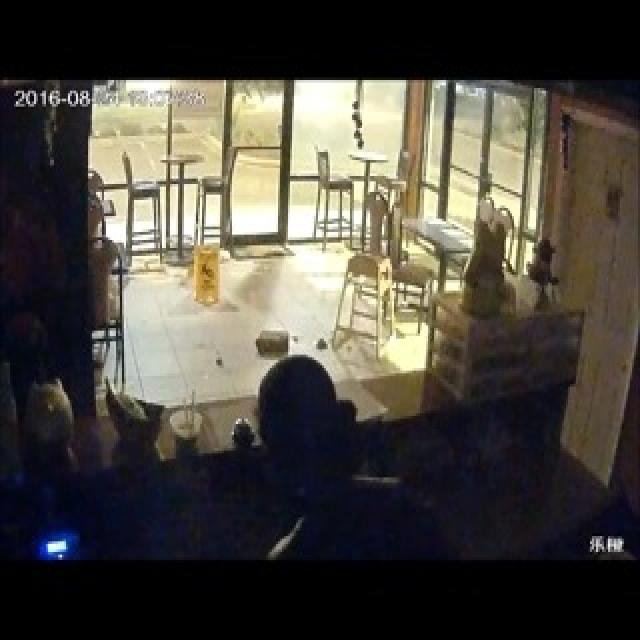thief: (230, 344, 404, 531)
